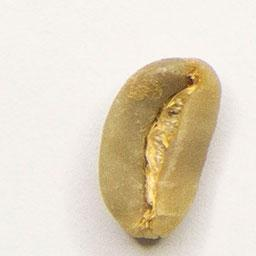longberry: (95, 52, 225, 243)
